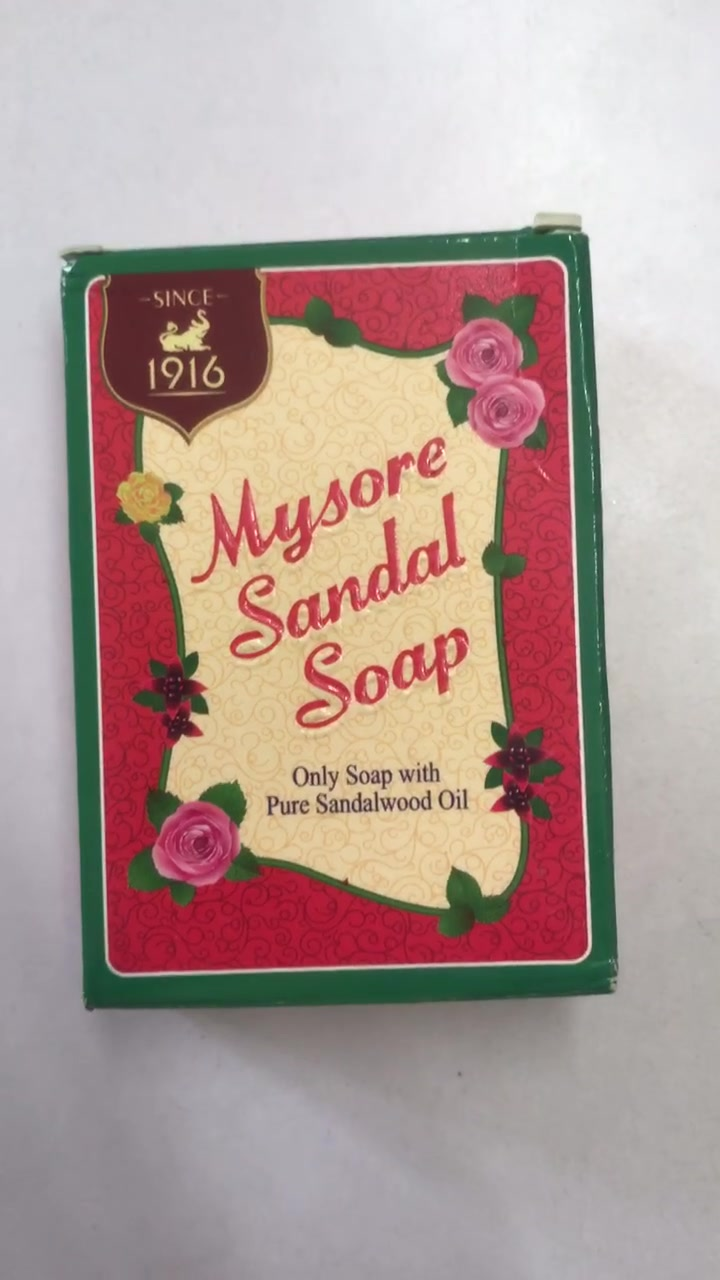mysore sandal soap: (71, 249, 609, 999)
